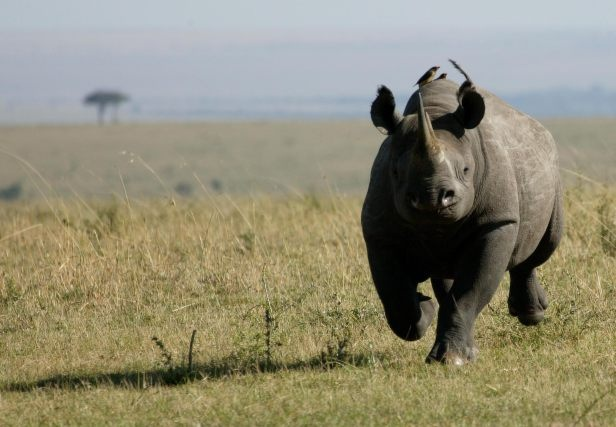rhino: (358, 76, 567, 366)
